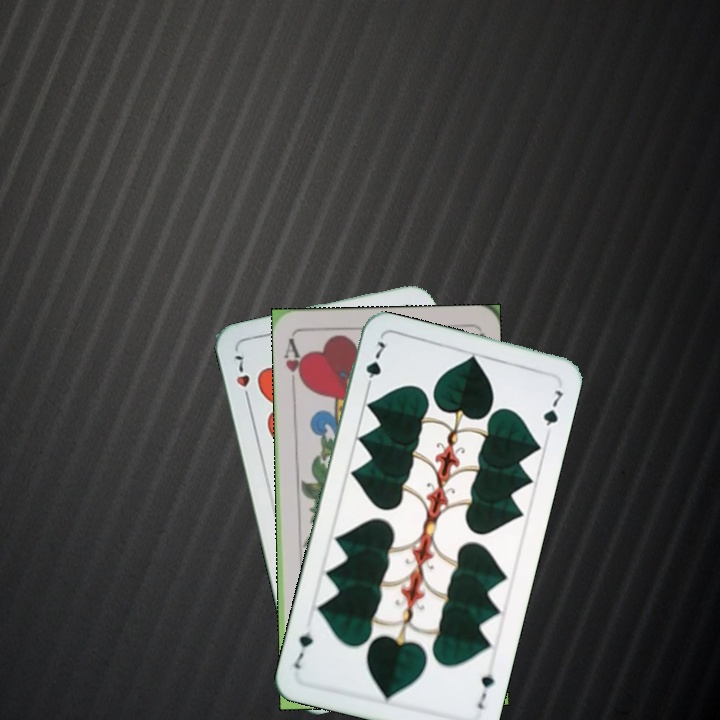G7: (361, 337, 391, 394), (473, 669, 497, 712)
H7: (231, 351, 253, 406)
HA: (279, 334, 307, 393)
